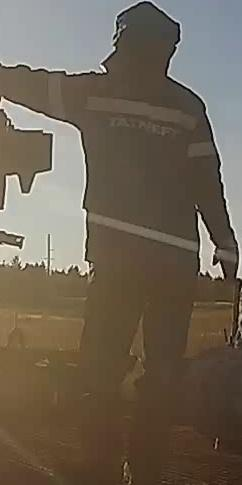gloves: (211, 231, 242, 286)
vest: (45, 67, 199, 286)
